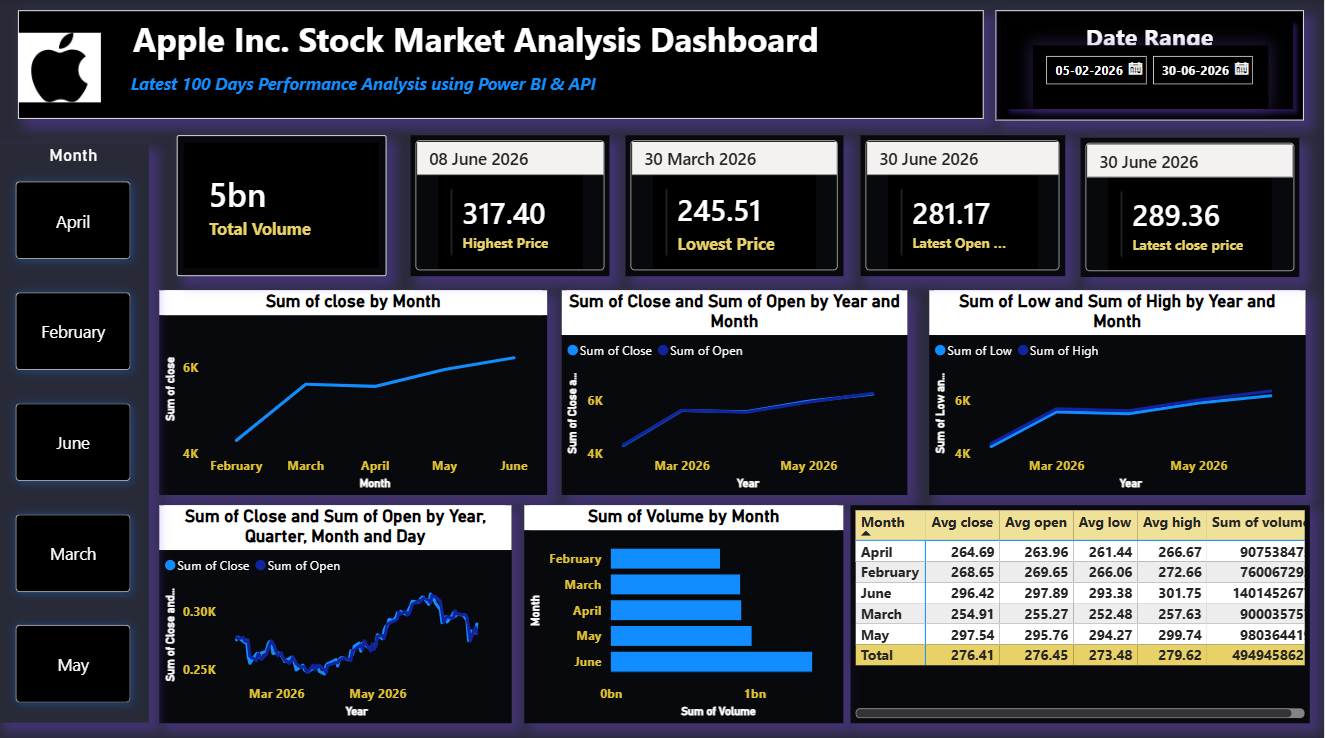

The page's visual inventory and layout, read from the dashboard file:
{"tool":"powerbi","page":{"name":"APPLE","canvas":[1280,720],"ordinal":0},"visuals":[{"type":"shape","box":[962.7,10.9,298,106.2],"z":0},{"type":"textbox","box":[19.2,10.3,932.1,105.1],"z":1000},{"type":"image","box":[19.3,32.6,79.6,67.6],"z":2000},{"type":"lineChart","fields":{"Y":["Sum(query?function=TIME_SERIES_DAILY&symbol=AAPL&outputsize=compact&apikey= '6AKOG57.close)"],"Category":["query?function=TIME_SERIES_DAILY&symbol=AAPL&outputsize=compact&apikey= '6AKOG57.Date.Variation.Date Hierarchy.Month"]},"box":[155.1,280.8,374.4,197.4],"z":3000},{"type":"lineChart","fields":{"Y":["Sum(query?function=TIME_SERIES_DAILY&symbol=AAPL&outputsize=compact&apikey= '6AKOG57.close)","Sum(query?function=TIME_SERIES_DAILY&symbol=AAPL&outputsize=compact&apikey= '6AKOG57.open)"],"Category":["query?function=TIME_SERIES_DAILY&symbol=AAPL&outputsize=compact&apikey= '6AKOG57.Date.Variation.Date Hierarchy.Year","query?function=TIME_SERIES_DAILY&symbol=AAPL&outputsize=compact&apikey= '6AKOG57.Date.Variation.Date Hierarchy.Month"]},"box":[543.6,280.8,333.3,197.4],"z":4000},{"type":"cardVisual","fields":{"Data":["query?function=TIME_SERIES_DAILY&symbol=AAPL&outputsize=compact&apikey= '6AKOG57.total volume"]},"box":[173.1,132.1,202.6,135.9],"z":5000},{"type":"lineChart","fields":{"Y":["Sum(query?function=TIME_SERIES_DAILY&symbol=AAPL&outputsize=compact&apikey= '6AKOG57.low)","Sum(query?function=TIME_SERIES_DAILY&symbol=AAPL&outputsize=compact&apikey= '6AKOG57.high)"],"Category":["query?function=TIME_SERIES_DAILY&symbol=AAPL&outputsize=compact&apikey= '6AKOG57.Date.Variation.Date Hierarchy.Year","query?function=TIME_SERIES_DAILY&symbol=AAPL&outputsize=compact&apikey= '6AKOG57.Date.Variation.Date Hierarchy.Month"]},"box":[898.7,280.8,362.8,197.4],"z":6000},{"type":"lineChart","fields":{"Y":["Sum(query?function=TIME_SERIES_DAILY&symbol=AAPL&outputsize=compact&apikey= '6AKOG57.close)","Sum(query?function=TIME_SERIES_DAILY&symbol=AAPL&outputsize=compact&apikey= '6AKOG57.open)"],"Category":["query?function=TIME_SERIES_DAILY&symbol=AAPL&outputsize=compact&apikey= '6AKOG57.Date.Variation.Date Hierarchy.Year","query?function=TIME_SERIES_DAILY&symbol=AAPL&outputsize=compact&apikey= '6AKOG57.Date.Variation.Date Hierarchy.Quarter","query?function=TIME_SERIES_DAILY&symbol=AAPL&outputsize=compact&apikey= '6AKOG57.Date.Variation.Date Hierarchy.Month","query?function=TIME_SERIES_DAILY&symbol=AAPL&outputsize=compact&apikey= '6AKOG57.Date.Variation.Date Hierarchy.Day"]},"box":[155.1,488.5,339.7,210.3],"z":7000},{"type":"barChart","fields":{"Y":["Sum(query?function=TIME_SERIES_DAILY&symbol=AAPL&outputsize=compact&apikey= '6AKOG57.volume)"],"Category":["query?function=TIME_SERIES_DAILY&symbol=AAPL&outputsize=compact&apikey= '6AKOG57.Date.Variation.Date Hierarchy.Month"]},"box":[507.7,488.5,307.7,210.3],"z":8000},{"type":"pivotTable","fields":{"Rows":["apple Stock.Month "],"Values":["Avg(apple Stock.close)","Avg(apple Stock.open)","Avg(apple Stock.low)","Avg(apple Stock.high)","Sum(apple Stock.volume)"]},"box":[823.1,488.5,443.6,210.3],"z":9000},{"type":"advancedSlicerVisual","fields":{"Values":["apple Stock.Month "]},"box":[0,139.9,146,558.6],"z":10000},{"type":"slicer","fields":{"Values":["apple Stock.Date"]},"box":[998.9,44.6,226.8,61.5],"z":11000},{"type":"cardVisual","fields":{"Rows":["apple Stock.Date"],"Data":["Sum(apple Stock.high)"]},"box":[398.7,132.1,192.3,135.9],"z":12000},{"type":"cardVisual","fields":{"Rows":["apple Stock.Date"],"Data":["Sum(apple Stock.low)"]},"box":[605.1,132.1,210.3,135.9],"z":13000},{"type":"cardVisual","fields":{"Rows":["apple Stock.Date"],"Data":["Sum(apple Stock.close)"]},"box":[1044.9,133.3,211.5,134.6],"z":14000},{"type":"cardVisual","fields":{"Rows":["apple Stock.Date"],"Data":["Sum(apple Stock.open)"]},"box":[832.1,132.1,197.4,135.9],"z":15000}]}

Visuals, with their boxes in screenshot pixels (x1, y1, x2, y2), scaled from the page's 1280x720 canvas onto the 1325x738 screenshot:
shape: crop(997, 11, 1305, 120)
textbox: crop(20, 11, 985, 118)
image: crop(20, 33, 102, 103)
lineChart - Sum(query?function=TIME_SERIES_DAILY&symbol=AAPL&outputsize=compact&apikey= '6AKOG57.close) x query?function=TIME_SERIES_DAILY&symbol=AAPL&outputsize=compact&apikey= '6AKOG57.Date.Variation.Date Hierarchy.Month: crop(161, 288, 548, 490)
lineChart - Sum(query?function=TIME_SERIES_DAILY&symbol=AAPL&outputsize=compact&apikey= '6AKOG57.close) x Sum(query?function=TIME_SERIES_DAILY&symbol=AAPL&outputsize=compact&apikey= '6AKOG57.open): crop(563, 288, 908, 490)
cardVisual - query?function=TIME_SERIES_DAILY&symbol=AAPL&outputsize=compact&apikey= '6AKOG57.total volume: crop(179, 135, 389, 275)
lineChart - Sum(query?function=TIME_SERIES_DAILY&symbol=AAPL&outputsize=compact&apikey= '6AKOG57.low) x Sum(query?function=TIME_SERIES_DAILY&symbol=AAPL&outputsize=compact&apikey= '6AKOG57.high): crop(930, 288, 1306, 490)
lineChart - Sum(query?function=TIME_SERIES_DAILY&symbol=AAPL&outputsize=compact&apikey= '6AKOG57.close) x Sum(query?function=TIME_SERIES_DAILY&symbol=AAPL&outputsize=compact&apikey= '6AKOG57.open): crop(161, 501, 512, 716)
barChart - Sum(query?function=TIME_SERIES_DAILY&symbol=AAPL&outputsize=compact&apikey= '6AKOG57.volume) x query?function=TIME_SERIES_DAILY&symbol=AAPL&outputsize=compact&apikey= '6AKOG57.Date.Variation.Date Hierarchy.Month: crop(526, 501, 844, 716)
pivotTable - apple Stock.Month  x Avg(apple Stock.close): crop(852, 501, 1311, 716)
advancedSlicerVisual - apple Stock.Month : crop(0, 143, 151, 716)
slicer - apple Stock.Date: crop(1034, 46, 1269, 109)
cardVisual - apple Stock.Date x Sum(apple Stock.high): crop(413, 135, 612, 275)
cardVisual - apple Stock.Date x Sum(apple Stock.low): crop(626, 135, 844, 275)
cardVisual - apple Stock.Date x Sum(apple Stock.close): crop(1082, 137, 1301, 275)
cardVisual - apple Stock.Date x Sum(apple Stock.open): crop(861, 135, 1066, 275)
